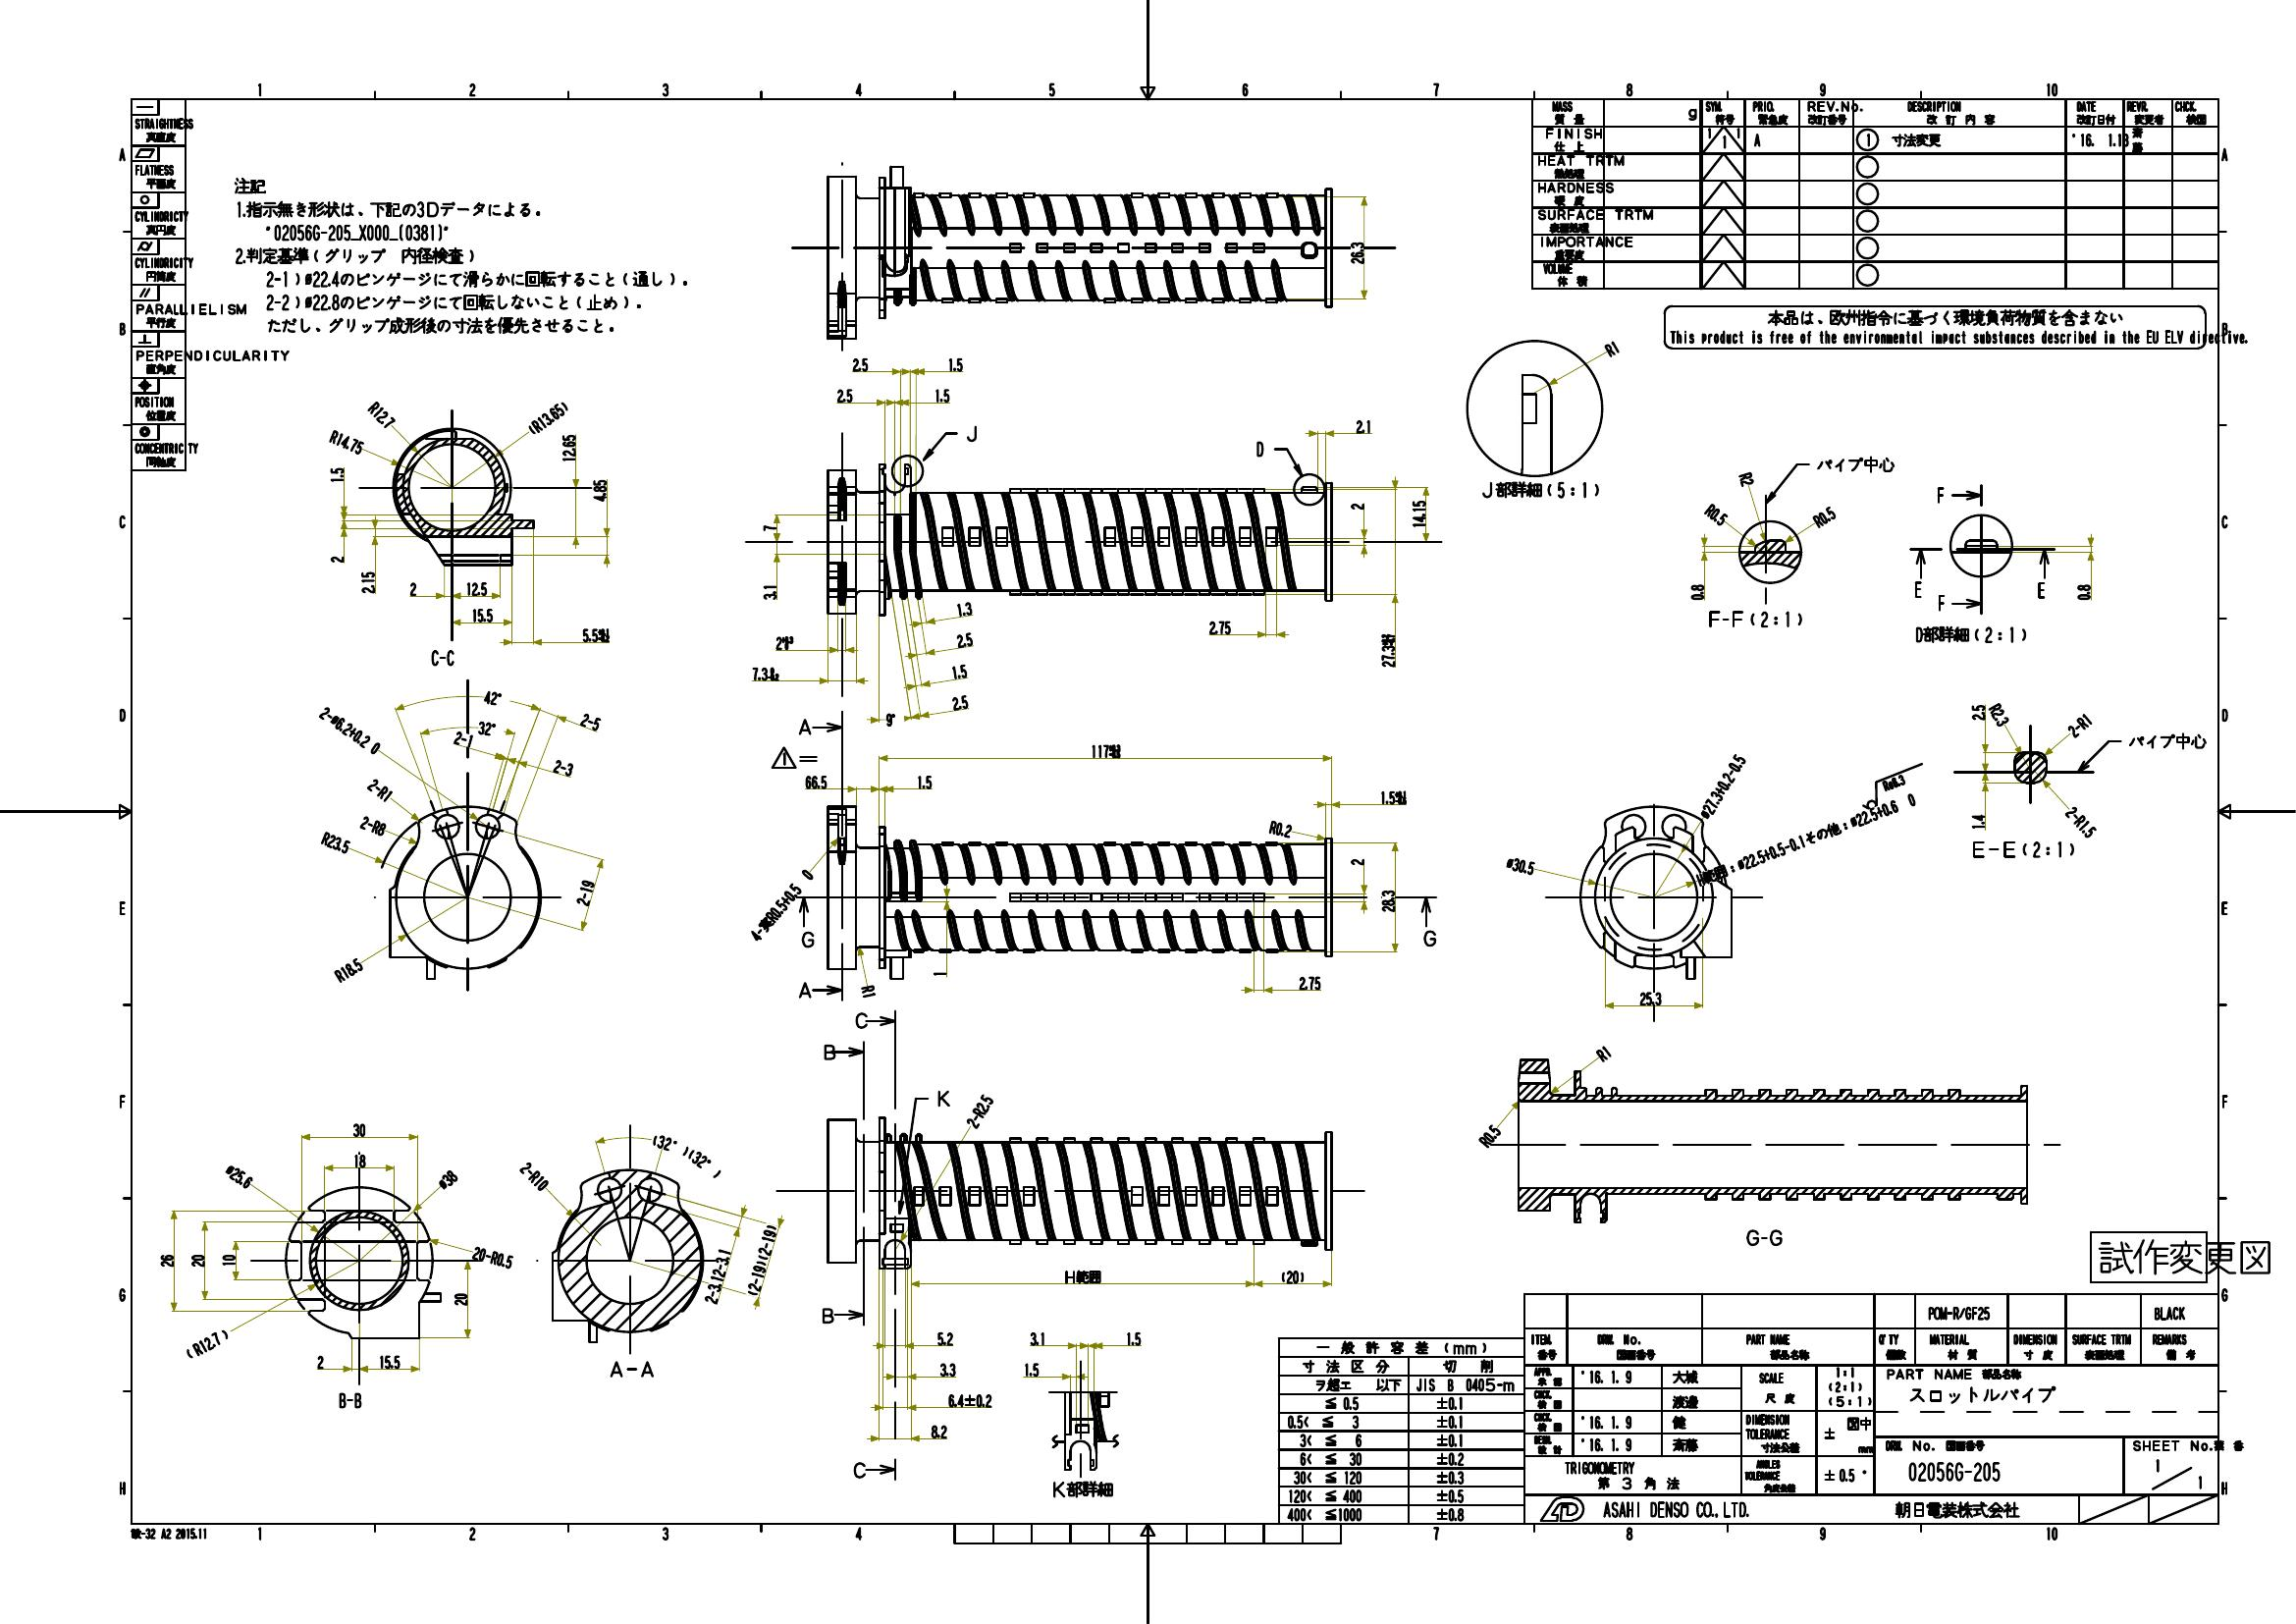anntotation_text: (232, 172, 689, 339), (1662, 304, 2206, 348), (2090, 1230, 2208, 1281), (1913, 624, 2031, 647), (1704, 606, 1808, 631), (1481, 480, 1600, 501), (1969, 838, 2080, 859), (2127, 733, 2212, 752), (1815, 455, 1897, 473), (1051, 1478, 1116, 1499), (130, 1527, 207, 1541), (608, 1359, 653, 1380), (429, 643, 462, 668), (1746, 1229, 1785, 1250), (1059, 1267, 1103, 1285), (1804, 824, 1852, 838), (1695, 865, 1736, 881), (771, 745, 798, 768), (337, 1388, 364, 1408), (2032, 578, 2050, 601), (817, 1304, 834, 1325), (796, 979, 813, 1000), (850, 1461, 868, 1478), (798, 932, 815, 949), (936, 1088, 952, 1107), (1421, 928, 1437, 947), (964, 424, 980, 443), (1910, 580, 1925, 599), (1934, 483, 1946, 506), (820, 1042, 836, 1060), (854, 1011, 868, 1028), (798, 717, 812, 735), (1253, 439, 1267, 457), (1936, 592, 1946, 610)
dimension_text: (1843, 775, 1931, 816), (648, 1146, 731, 1164), (738, 898, 826, 912), (755, 1223, 771, 1295), (1715, 750, 1730, 823), (314, 722, 385, 738), (1734, 845, 1806, 859), (711, 1244, 726, 1304), (184, 1334, 230, 1350), (947, 1394, 996, 1408), (473, 1250, 513, 1265), (1379, 631, 1395, 668), (525, 411, 571, 424), (2061, 814, 2099, 828), (1089, 742, 1123, 758), (971, 1093, 987, 1127), (365, 408, 397, 424), (332, 961, 364, 977), (525, 1160, 541, 1192), (329, 434, 364, 448), (320, 835, 350, 851), (1409, 499, 1425, 529), (1207, 617, 1233, 634), (1267, 819, 1293, 837), (360, 568, 376, 596), (581, 626, 610, 642), (365, 782, 393, 798), (1379, 789, 1407, 805), (2068, 717, 2092, 735), (1296, 974, 1321, 991), (223, 1169, 253, 1183), (750, 666, 780, 680), (360, 817, 386, 833), (578, 879, 594, 905), (1349, 239, 1365, 265), (1351, 417, 1374, 434), (560, 434, 574, 462), (1381, 886, 1395, 914), (2076, 580, 2092, 605), (1481, 1123, 1497, 1148), (1635, 991, 1667, 1004), (1504, 859, 1535, 872), (803, 775, 829, 789), (1704, 506, 1727, 522), (471, 606, 494, 622), (580, 714, 603, 729), (553, 759, 576, 775), (1990, 703, 2006, 726), (592, 478, 606, 503), (466, 582, 490, 596), (850, 355, 870, 373), (378, 1353, 399, 1369), (773, 634, 794, 650), (912, 773, 933, 789), (935, 1329, 956, 1345), (1813, 510, 1836, 524), (1022, 1360, 1040, 1378), (950, 694, 970, 710), (938, 1360, 957, 1376), (1690, 582, 1706, 599), (329, 466, 344, 483), (455, 731, 473, 747), (351, 1121, 369, 1137), (950, 664, 968, 680), (956, 631, 973, 647), (929, 1422, 947, 1438), (1028, 1329, 1045, 1345), (483, 691, 502, 705), (478, 721, 497, 735), (437, 1172, 457, 1186), (762, 582, 776, 601), (1739, 471, 1755, 487), (158, 1253, 174, 1269), (453, 1292, 469, 1308), (949, 355, 964, 371), (933, 387, 949, 402), (1969, 703, 1985, 719), (836, 388, 854, 402), (956, 601, 973, 615), (1347, 499, 1365, 513), (1124, 1332, 1142, 1346), (353, 1153, 367, 1169), (221, 1251, 235, 1267), (190, 1253, 204, 1269), (313, 1353, 327, 1369), (861, 984, 875, 1000), (1969, 814, 1985, 828), (1597, 1048, 1611, 1062), (329, 550, 343, 564), (884, 710, 894, 726), (1349, 856, 1365, 866), (761, 524, 778, 533), (408, 582, 418, 596), (931, 970, 947, 977)
object: (826, 165, 1332, 339), (826, 805, 1332, 979), (1516, 1058, 2027, 1222), (826, 462, 1333, 615), (826, 1116, 1333, 1269), (379, 807, 541, 979), (552, 1167, 703, 1343), (1579, 807, 1730, 981), (285, 1186, 441, 1339), (393, 429, 534, 566), (1051, 1390, 1119, 1469), (1520, 373, 1555, 475), (1739, 538, 1802, 568), (2013, 750, 2047, 784), (1950, 540, 2011, 552)
title_block: (1279, 1295, 2217, 1526), (1532, 98, 2219, 288), (132, 98, 186, 473)
